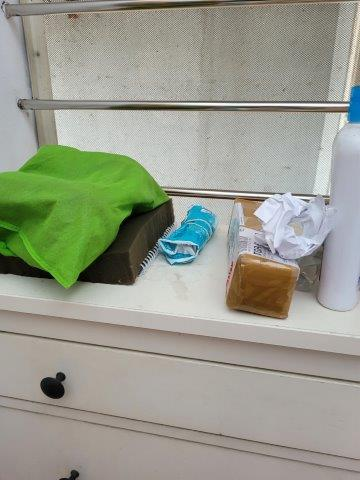kertas: (253, 188, 337, 259)
